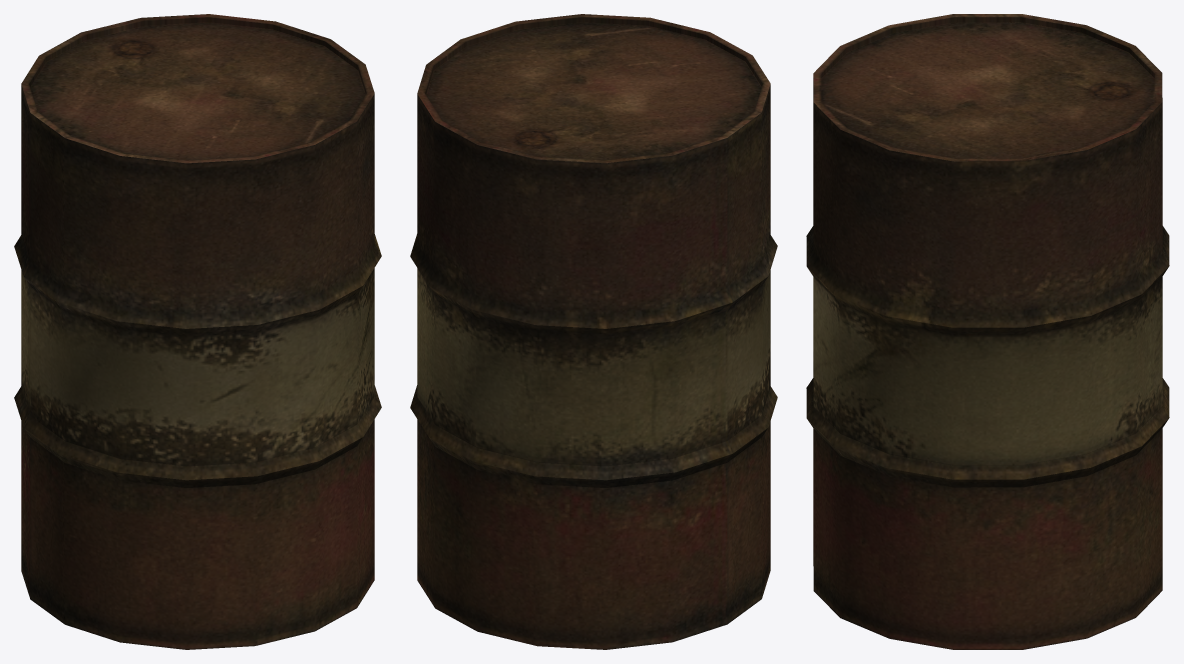
File: metal_barrel_2.obj
3 renders of one model, left to right at view 1: azimuth 30°, elevation 25°; view 2: azimuth 150°, elevation 25°; view 3: azimuth 270°, elevation 25°, orthographic.
Visible parts, largest first — view 1: metal_barrel_2; view 2: metal_barrel_2; view 3: metal_barrel_2.
Part boxes in pixels (x1=…): metal_barrel_2: x1=14, y1=14, x2=381, y2=649; metal_barrel_2: x1=410, y1=14, x2=777, y2=649; metal_barrel_2: x1=806, y1=14, x2=1169, y2=649.
Size of the model in its own units: 0.6735 by 1 by 0.6735.
